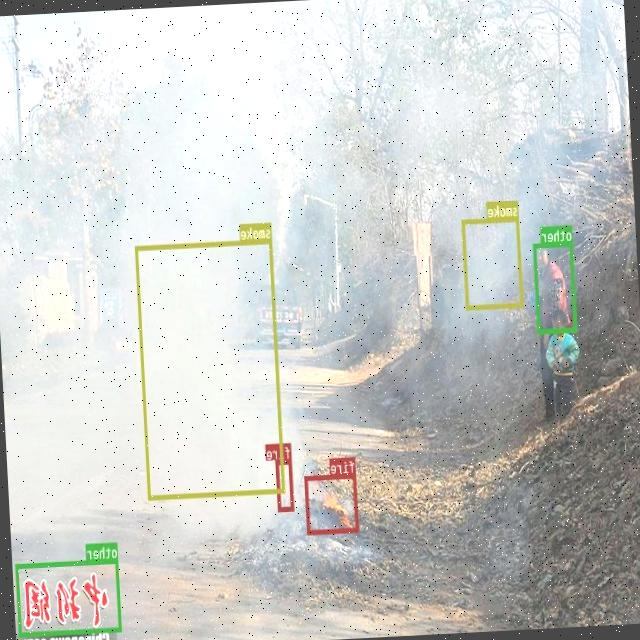fire: (305, 473, 360, 534), (276, 459, 295, 512)
smoke: (136, 239, 286, 499), (462, 216, 524, 309)
